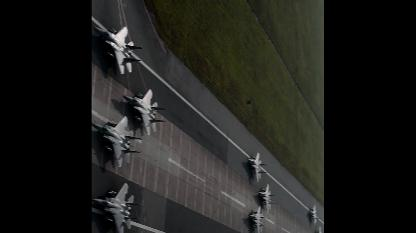F117: (92, 115, 143, 168), (92, 182, 144, 232), (92, 26, 143, 75), (122, 89, 166, 136), (247, 152, 268, 182), (249, 205, 271, 232), (260, 184, 278, 213), (310, 205, 322, 226), (315, 226, 325, 232)
